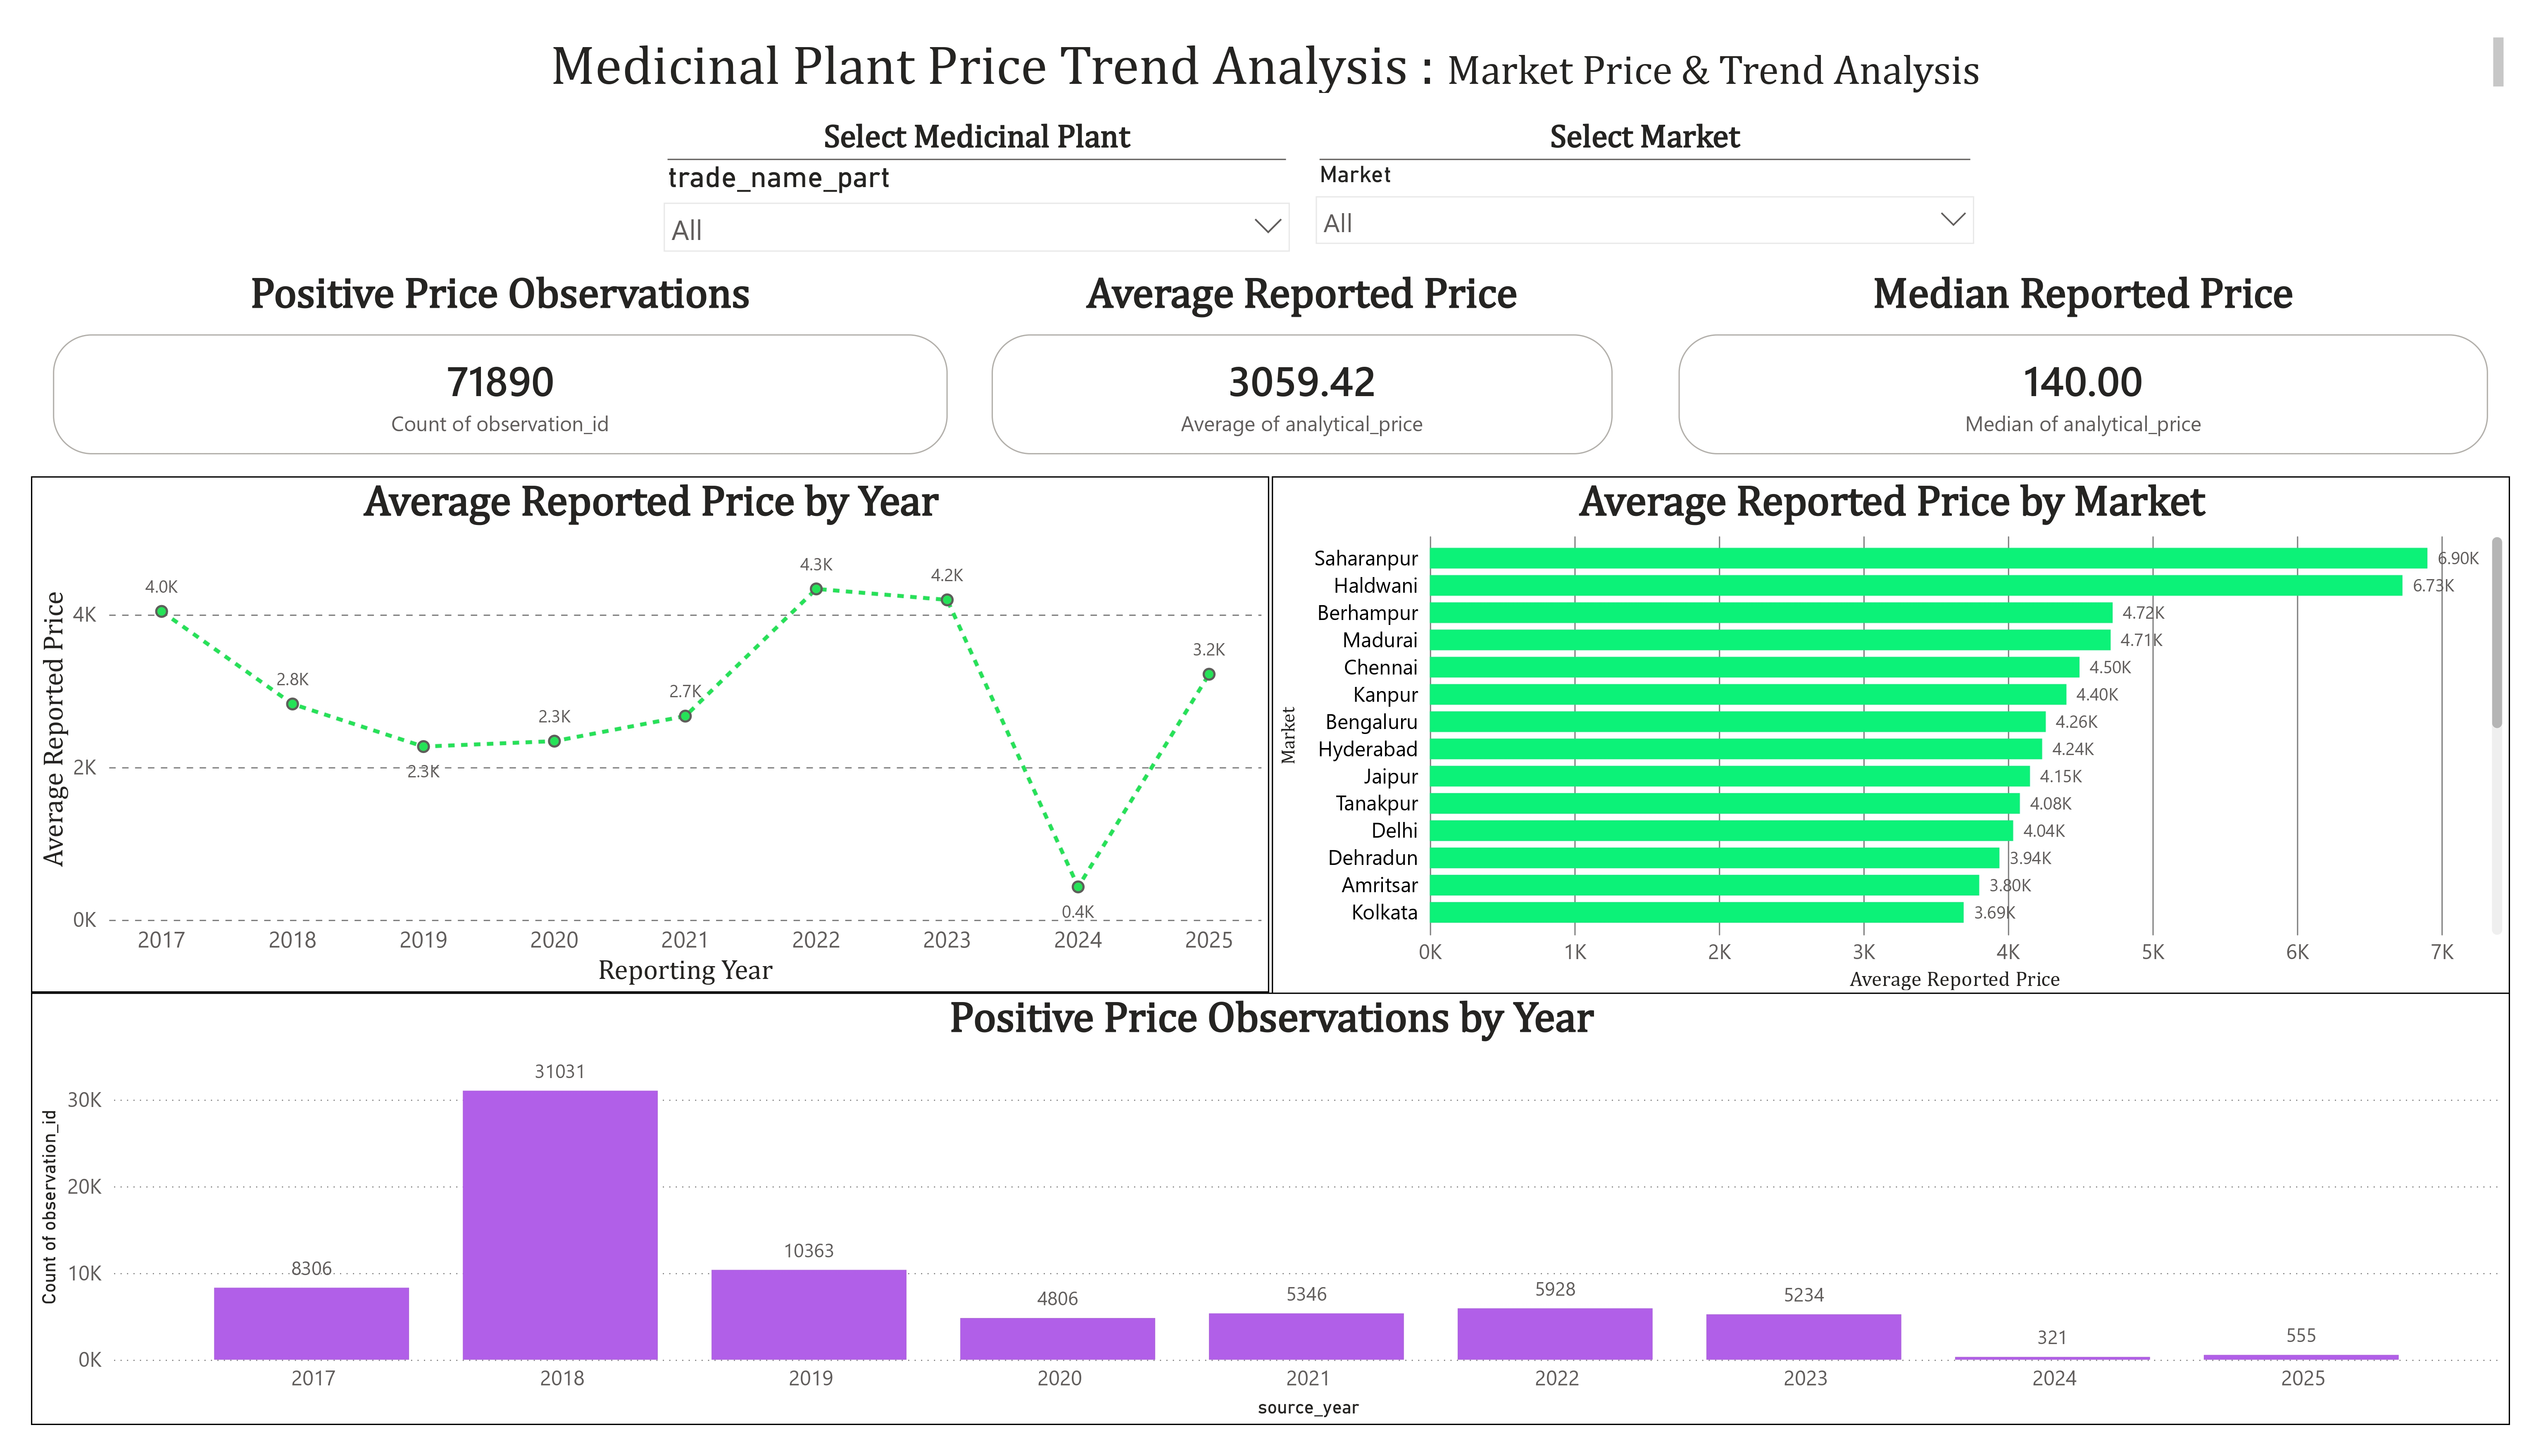

The page's visual inventory and layout, read from the dashboard file:
{"tool":"powerbi","page":{"name":"Overview","canvas":[1920,1080],"ordinal":0},"visuals":[{"type":"textbox","box":[0,0,1920.4,52.6],"z":500},{"type":"slicer","title":"Select Medicinal Plant","fields":{"Values":["medicinal_plant_price_trend_analysis plants.trade_name_part"]},"box":[479.6,68.2,505,117],"z":1000},{"type":"slicer","title":"Select Market","fields":{"Values":["medicinal_plant_price_trend_analysis positive_price_observations.market"]},"box":[984.6,68.2,530.3,117],"z":2000},{"type":"cardVisual","title":"Positive Price Observations","fields":{"Data":["CountNonNull(medicinal_plant_price_trend_analysis positive_price_observations.observation_id)"]},"box":[0,185.2,727.2,159.9],"z":3000},{"type":"cardVisual","title":"Average Reported Price","fields":{"Data":["Avg(medicinal_plant_price_trend_analysis positive_price_observations.analytical_price)"]},"box":[727.2,185.2,514.7,159.9],"z":4000},{"type":"cardVisual","title":"Median Reported Price","fields":{"Data":["Median(medicinal_plant_price_trend_analysis positive_price_observations.analytical_price)"]},"box":[1259.5,185.2,660.9,159.9],"z":5000},{"type":"lineChart","title":"Average Reported Price by Year","fields":{"Category":["medicinal_plant_price_trend_analysis positive_price_observations.source_year"],"Y":["Avg(medicinal_plant_price_trend_analysis positive_price_observations.analytical_price)"]},"box":[0,345.1,959.2,399.7],"z":6000},{"type":"clusteredBarChart","title":"Average Reported Price by Market","fields":{"Category":["medicinal_plant_price_trend_analysis positive_price_observations.market"],"Y":["Avg(medicinal_plant_price_trend_analysis positive_price_observations.analytical_price)"]},"box":[961.2,345.1,959.2,403.6],"z":7000},{"type":"clusteredColumnChart","title":"Positive Price Observations by Year","fields":{"Category":["medicinal_plant_price_trend_analysis positive_price_observations.source_year"],"Y":["CountNonNull(medicinal_plant_price_trend_analysis positive_price_observations.observation_id)"]},"box":[0,744.8,1920.4,335.3],"z":8000}]}

Visuals, with their boxes on the page's 1920x1080 design canvas (x1, y1, x2, y2). These are canvas units, not pixel positions in the 2541x1456 screenshot, which may show the page scaled, cropped or inside an application window:
textbox: pyautogui.locateOnScreen(0, 0, 1920, 53)
"Select Medicinal Plant" slicer: pyautogui.locateOnScreen(480, 68, 985, 185)
"Select Market" slicer: pyautogui.locateOnScreen(985, 68, 1515, 185)
"Positive Price Observations" cardVisual: pyautogui.locateOnScreen(0, 185, 727, 345)
"Average Reported Price" cardVisual: pyautogui.locateOnScreen(727, 185, 1242, 345)
"Median Reported Price" cardVisual: pyautogui.locateOnScreen(1260, 185, 1920, 345)
"Average Reported Price by Year" lineChart: pyautogui.locateOnScreen(0, 345, 959, 745)
"Average Reported Price by Market" clusteredBarChart: pyautogui.locateOnScreen(961, 345, 1920, 749)
"Positive Price Observations by Year" clusteredColumnChart: pyautogui.locateOnScreen(0, 745, 1920, 1080)
